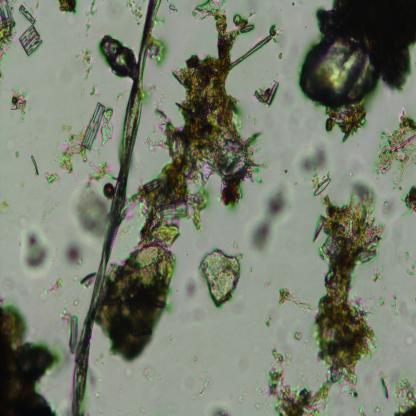Background material: (69, 0, 160, 416), (298, 0, 416, 142), (312, 183, 384, 392), (173, 52, 268, 207), (133, 155, 214, 255), (0, 296, 63, 415), (263, 346, 330, 416), (246, 177, 293, 258), (375, 106, 416, 187), (192, 0, 235, 67), (199, 247, 248, 304), (71, 178, 110, 238), (18, 223, 60, 278), (229, 25, 281, 69), (96, 32, 136, 76), (143, 108, 176, 155), (59, 123, 85, 175), (276, 286, 318, 317), (293, 146, 330, 178), (391, 375, 416, 416), (0, 25, 17, 67), (230, 14, 257, 40), (253, 82, 281, 107), (10, 86, 30, 120), (388, 294, 412, 322), (78, 46, 96, 82), (39, 278, 65, 302), (62, 240, 82, 269), (86, 366, 104, 398), (122, 0, 145, 25), (146, 36, 168, 62), (181, 267, 198, 300), (85, 162, 113, 181), (100, 108, 114, 145), (401, 186, 416, 218), (376, 370, 391, 402), (83, 0, 95, 37), (139, 79, 158, 101), (79, 271, 97, 290), (56, 0, 77, 16), (207, 402, 231, 416), (186, 306, 204, 324), (44, 168, 64, 184), (143, 366, 160, 383), (194, 380, 210, 397), (383, 199, 397, 217), (0, 275, 14, 293), (30, 153, 40, 178), (154, 93, 167, 109), (372, 266, 386, 280), (0, 196, 10, 214), (291, 328, 303, 342), (235, 388, 247, 402), (260, 279, 275, 290), (60, 308, 70, 324), (266, 312, 276, 328), (246, 113, 259, 125), (403, 335, 416, 347), (376, 401, 385, 416), (169, 0, 178, 15), (406, 262, 416, 275), (124, 366, 133, 380), (18, 216, 29, 227), (274, 50, 286, 60), (114, 92, 124, 104), (403, 248, 410, 262), (358, 407, 368, 415), (156, 19, 166, 26), (0, 68, 5, 82), (13, 150, 20, 159), (90, 86, 96, 96), (42, 210, 48, 219), (140, 406, 146, 414), (73, 298, 78, 306), (56, 201, 60, 206), (50, 207, 54, 212)
Cotton: (95, 239, 175, 365)
Diatom: (82, 101, 106, 151), (18, 24, 42, 57), (160, 202, 188, 219), (69, 315, 80, 350), (0, 0, 13, 29), (314, 214, 325, 240), (20, 5, 35, 23), (314, 180, 330, 195), (103, 182, 114, 199)
